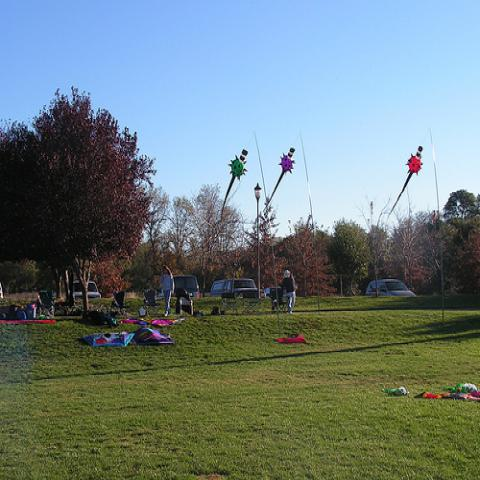car: (366, 279, 418, 297), (222, 278, 258, 299), (172, 274, 200, 299), (73, 282, 102, 299), (261, 289, 266, 297)
